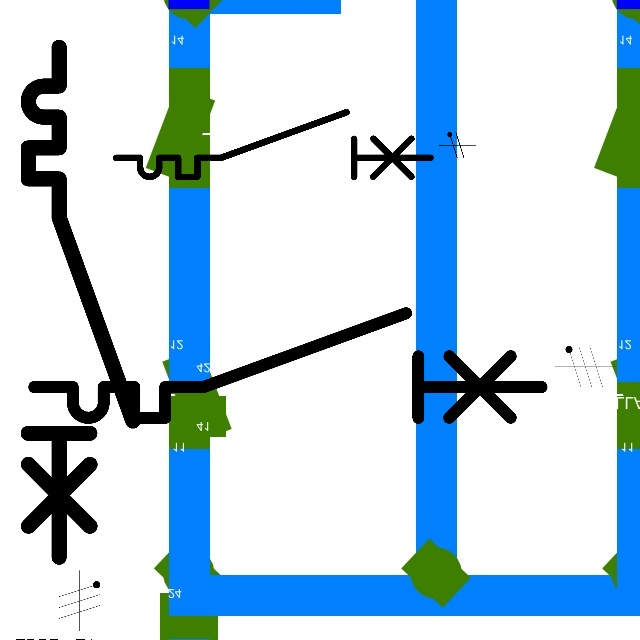interruptor_termomagnetico: (15, 34, 146, 570), (21, 300, 555, 431), (108, 104, 439, 185)
